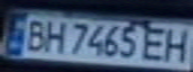4: (84, 22, 106, 56)
5: (118, 22, 142, 60)
6: (103, 22, 124, 58)
7: (66, 20, 90, 55)
B: (18, 17, 51, 53)
E: (136, 24, 172, 62)
H: (160, 26, 193, 64), (39, 18, 69, 54)
